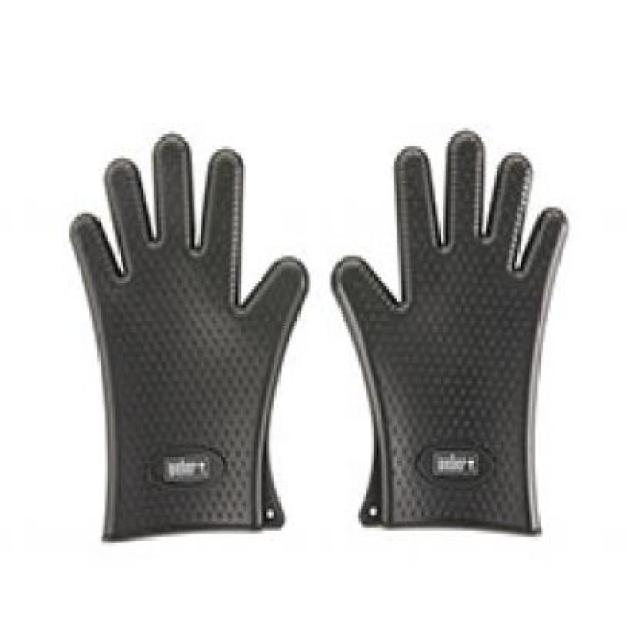gloves: (42, 130, 309, 541), (326, 131, 572, 540)
